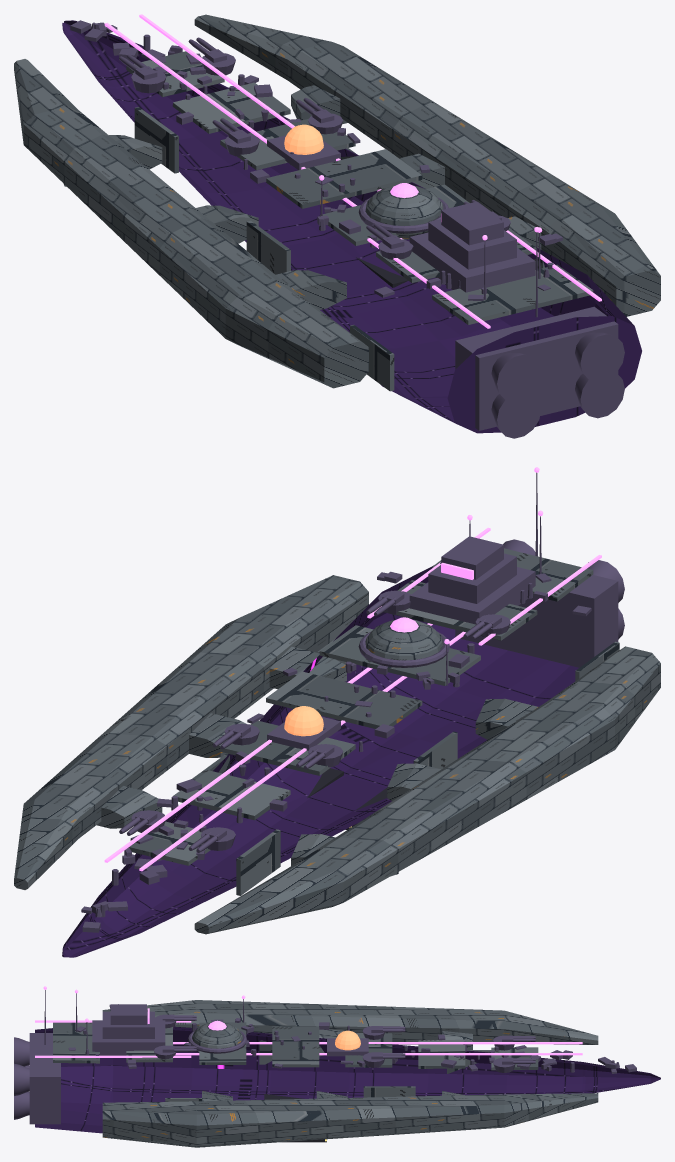
The model's file is ravager.glb.
The picture shows the model from 3 angles, top to bottom: view 1: azimuth 30°, elevation 25°; view 2: azimuth 150°, elevation 25°; view 3: azimuth 270°, elevation 25°; orthographic projection. The views are drawn at different scales.
Visible parts, largest first — view 1: Port and starboard galleries, Hull, ArmorPlates, EngineBlock, Bridge, Greebles, EnergyStrips, ShieldDome, TurretBases, CoreGrille, Core, ShieldRing; view 2: Port and starboard galleries, Hull, ArmorPlates, EngineBlock, Bridge, Greebles, EnergyStrips, ShieldDome, TurretBases, CoreGrille, Core, ShieldRing; view 3: Port and starboard galleries, Hull, ArmorPlates, EngineBlock, Bridge, Greebles, EnergyStrips, TurretBases, ShieldDome, CoreGrille, Core, ShieldRing (+1 smaller).
Part boxes in pixels (x1,y1,x2,y2): Port and starboard galleries: (14, 14, 660, 388); Hull: (62, 20, 641, 433); ArmorPlates: (126, 51, 593, 391); EngineBlock: (455, 306, 624, 438); Bridge: (409, 202, 535, 292); Greebles: (70, 20, 562, 300); EnergyStrips: (104, 14, 601, 328); ShieldDome: (365, 185, 443, 239); TurretBases: (131, 53, 510, 259); CoreGrille: (267, 135, 340, 170); Core: (284, 124, 323, 154); ShieldRing: (358, 197, 448, 233); Port and starboard galleries: (14, 575, 660, 934); Hull: (62, 565, 578, 957); ArmorPlates: (128, 548, 619, 895); EngineBlock: (455, 539, 624, 667); Bridge: (409, 536, 535, 624); Greebles: (81, 562, 591, 932); EnergyStrips: (104, 527, 601, 871); ShieldDome: (365, 620, 443, 660); TurretBases: (131, 590, 510, 850); CoreGrille: (267, 717, 340, 750); Core: (284, 706, 323, 736); ShieldRing: (358, 631, 449, 667); Port and starboard galleries: (102, 1000, 598, 1147); Hull: (35, 1026, 660, 1133); ArmorPlates: (53, 1022, 538, 1101); EngineBlock: (14, 1033, 60, 1124); Bridge: (92, 1004, 165, 1055); Greebles: (68, 1004, 636, 1073); EnergyStrips: (35, 1020, 582, 1057); TurretBases: (154, 1015, 515, 1072); ShieldDome: (192, 1022, 242, 1051); CoreGrille: (327, 1038, 368, 1056); Core: (335, 1030, 360, 1050); ShieldRing: (188, 1030, 246, 1053).
Size of the model in its own units: 56 by 27.33 by 124.
Materials: 7 (2 with a texture image).
